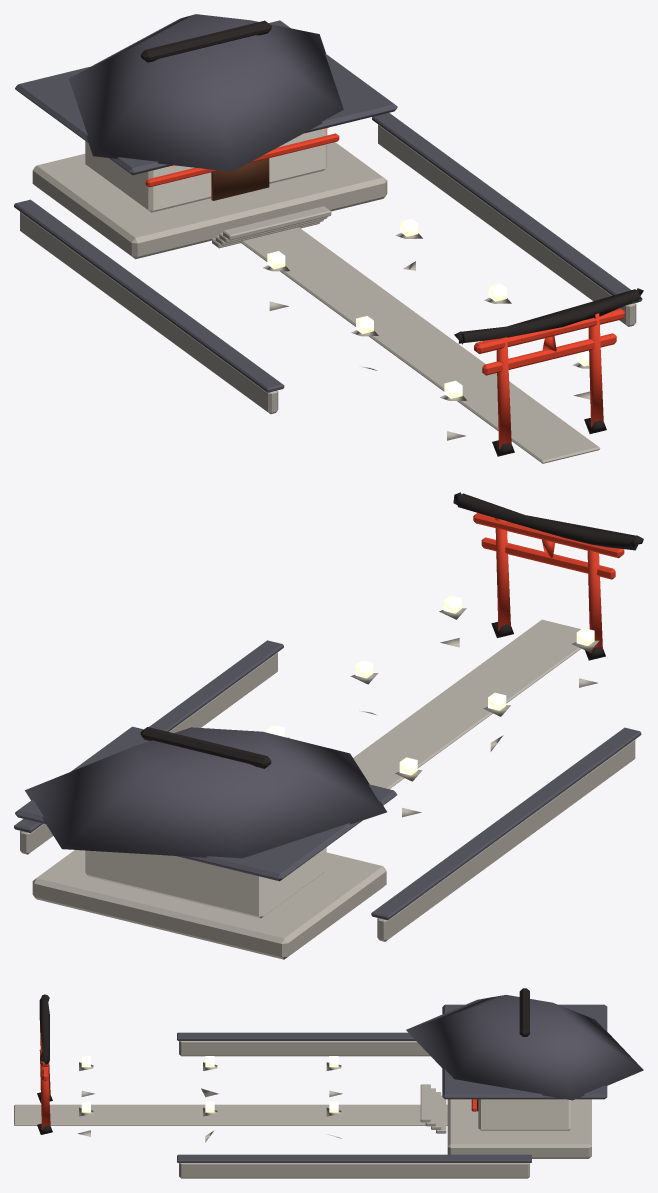
File: lod_hanazono.glb
The picture shows the model from 3 angles, top to bottom: view 1: azimuth 30°, elevation 25°; view 2: azimuth 150°, elevation 25°; view 3: azimuth 270°, elevation 25°; orthographic projection. The views are drawn at different scales.
Visible parts, largest first — view 1: near_roofTile, near_stoneL, near_vermilion, near_wallWhite, near_toriiBlack, near_door, near_lantern; view 2: near_roofTile, near_stoneL, near_wallWhite, near_vermilion, near_toriiBlack, near_lantern; view 3: near_stoneL, near_roofTile, near_wallWhite, near_toriiBlack, near_vermilion, near_lantern.
Boxes of the visible parts, x1,y1,x2,y2 form: near_roofTile: (14, 14, 642, 392); near_stoneL: (20, 124, 636, 463); near_vermilion: (145, 133, 624, 449); near_wallWhite: (85, 129, 327, 212); near_toriiBlack: (141, 20, 643, 456); near_door: (211, 158, 269, 200); near_lantern: (267, 218, 589, 398); near_roofTile: (14, 640, 641, 920); near_stoneL: (20, 608, 635, 959); near_wallWhite: (85, 847, 326, 918); near_vermilion: (473, 513, 624, 653); near_toriiBlack: (140, 492, 643, 768); near_lantern: (267, 595, 594, 775); near_stoneL: (14, 1041, 591, 1178); near_roofTile: (177, 995, 643, 1162); near_wallWhite: (478, 1099, 571, 1130); near_toriiBlack: (37, 988, 529, 1134); near_vermilion: (39, 1024, 476, 1129); near_lantern: (81, 1056, 338, 1112).
Bounding box in the file's own units: 29.4 × 11.5 × 61.04.
